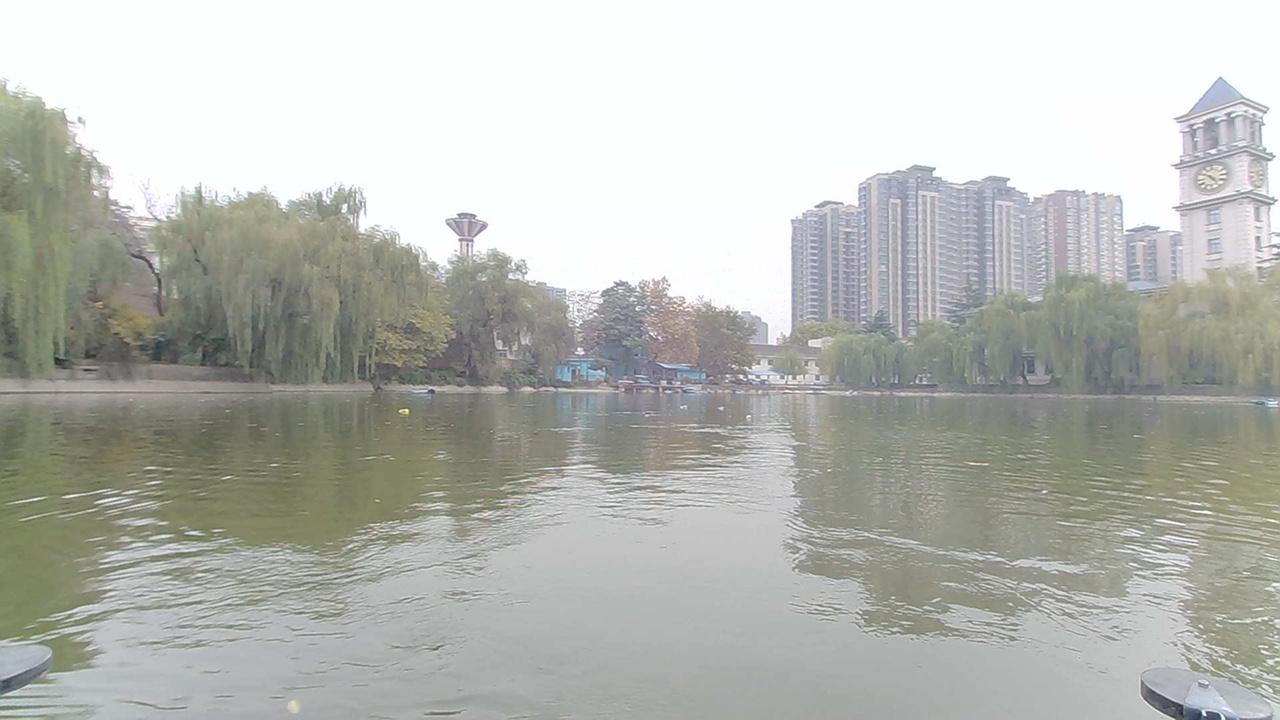bottle: (391, 401, 420, 422), (671, 396, 694, 417), (709, 396, 733, 415), (737, 410, 760, 427)
